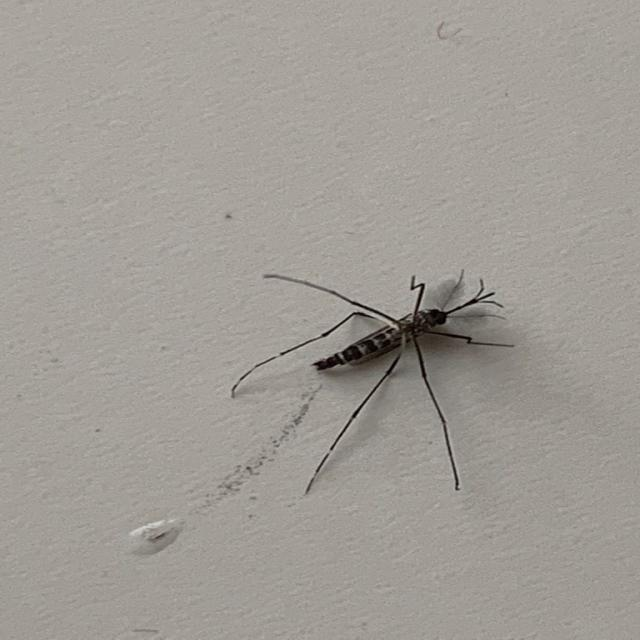albopictus: (236, 260, 512, 500)
